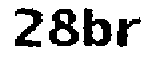2: (9, 2, 45, 53)
8: (46, 5, 79, 49)
b: (81, 6, 113, 49)
r: (116, 13, 146, 53)
